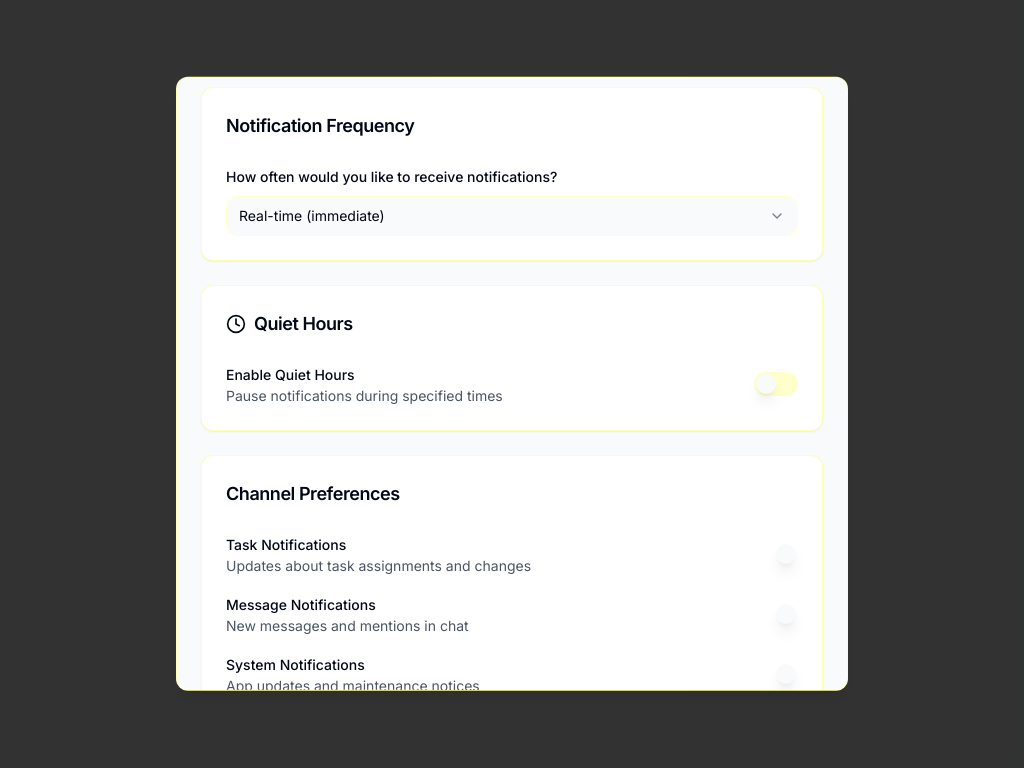
Test: NotificationCenter › toggles quiet hours
This screenshot has width=1024, height=768.
(page scrolled)
Enable quiet hours
Click the switch with test id "quiet-toggle" at (776, 384), box [754, 372, 798, 396]
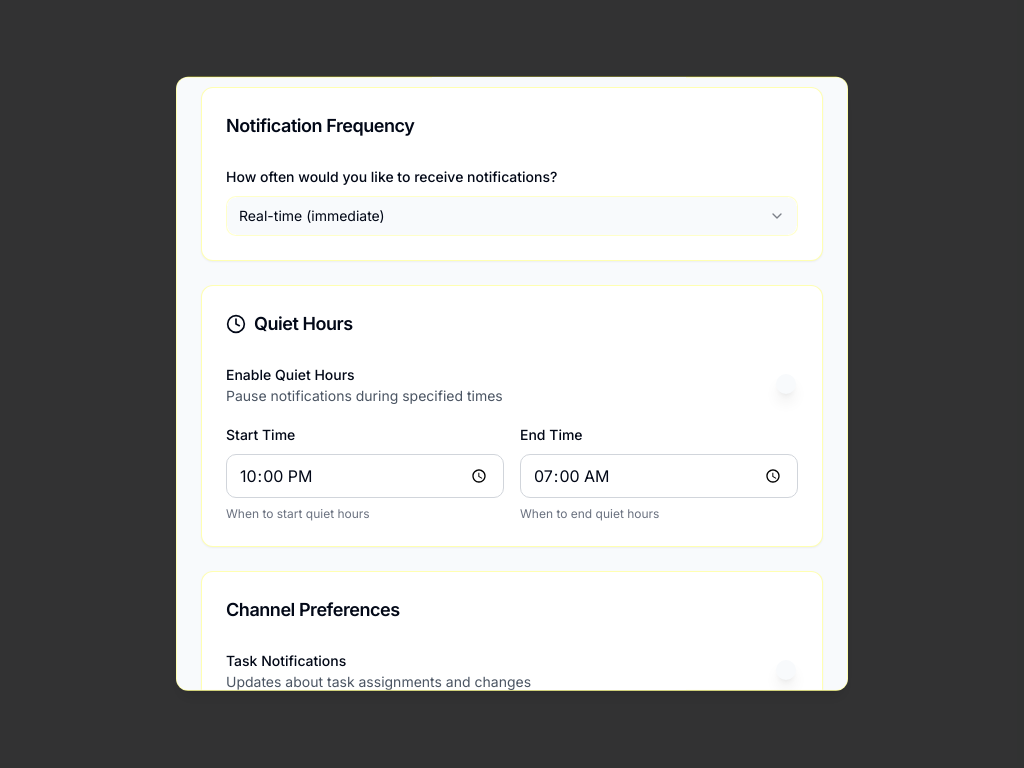
Expected: the time field labelled "Start Time" is shown, [226, 454, 504, 498]
Expected: the time field labelled "End Time" is shown, [520, 454, 798, 498]
